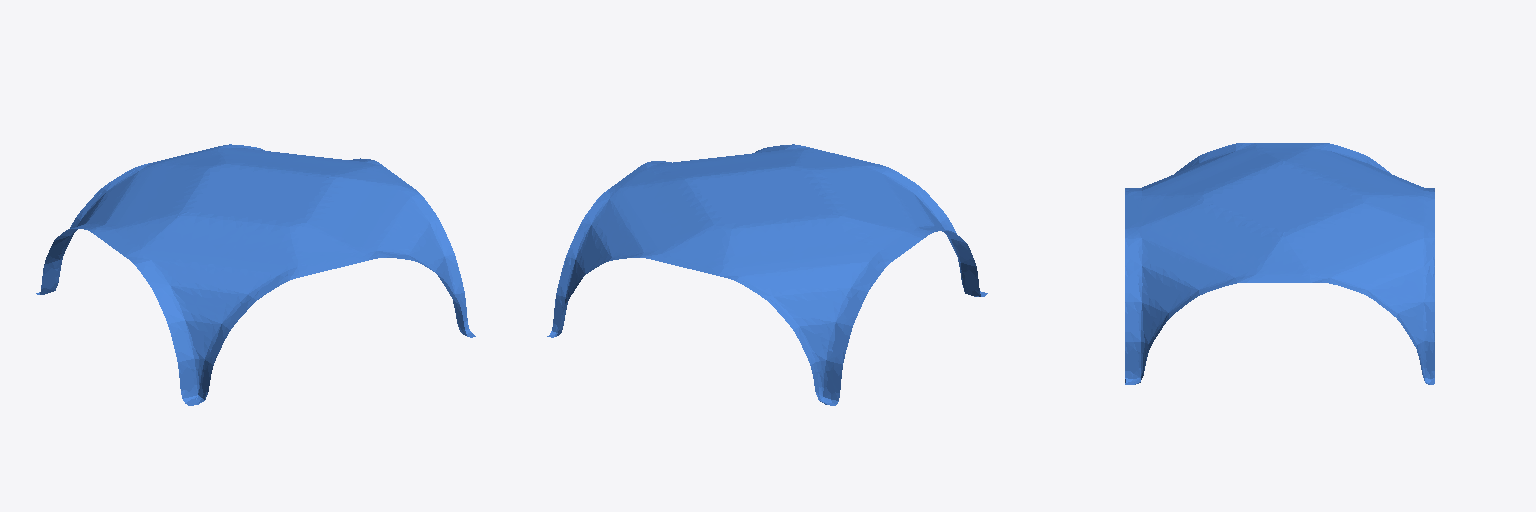
Rendered from ArcCeilling.obj.
3 renders of one model, left to right at view 1: azimuth 30°, elevation 25°; view 2: azimuth 150°, elevation 25°; view 3: azimuth 270°, elevation 25°, orthographic.
Parts seen in each view (by area): view 1: Box020; view 2: Box020; view 3: Box020.
Boxes of the visible parts, box(x1,y1,x2,y2) form: Box020: box(36, 144, 475, 405); Box020: box(547, 144, 987, 405); Box020: box(1125, 143, 1434, 384).
Bounding box in the file's own units: 9.21 × 3.62 × 8.59.